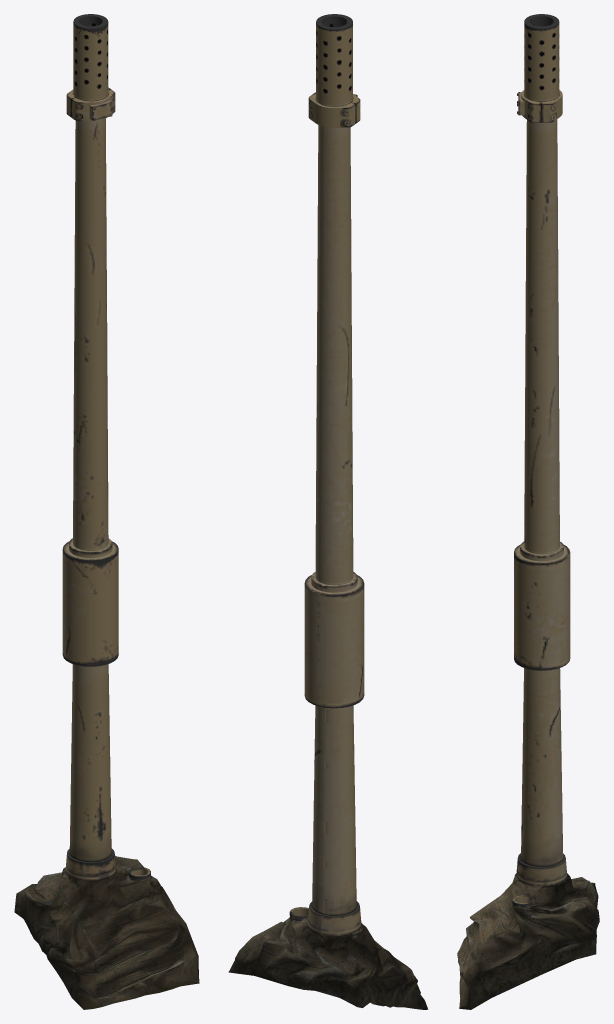
Rendered from Gun_02.glb.
The picture shows the model from 3 angles, left to right: view 1: azimuth 30°, elevation 25°; view 2: azimuth 150°, elevation 25°; view 3: azimuth 270°, elevation 25°; orthographic projection. The views are drawn at different scales.
Parts seen in each view (by area): view 1: set_0_group_0; view 2: set_0_group_0; view 3: set_0_group_0.
Boxes of the visible parts, left/top/right/bottom form: set_0_group_0: left=14, top=14, right=199, bottom=1009; set_0_group_0: left=228, top=14, right=428, bottom=1009; set_0_group_0: left=457, top=14, right=599, bottom=1009.
Size of the model in its own units: 0.7644 by 5.47 by 0.7413.
Materials: 1 (1 with a texture image).
